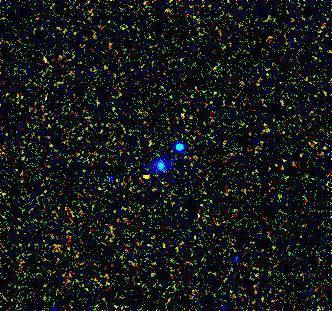star: (129, 161, 159, 191)
